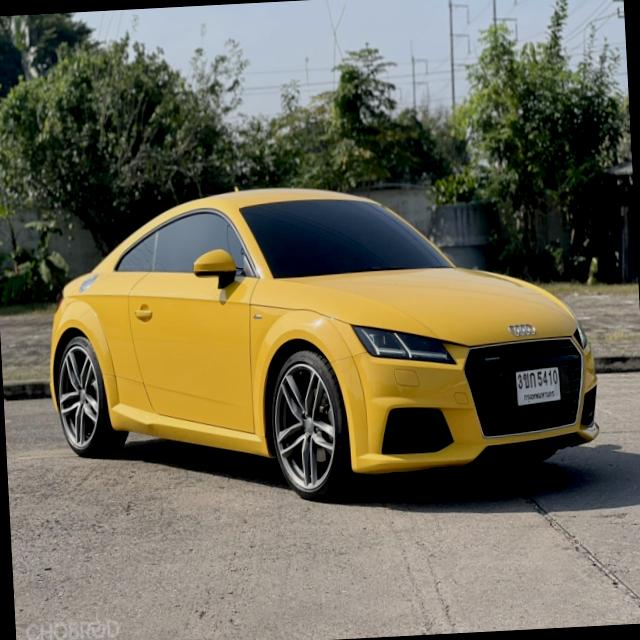license_plate: (512, 363, 565, 412)
